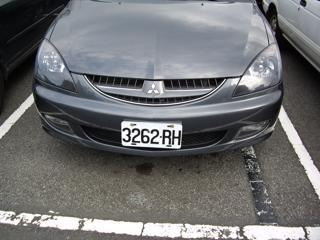plate: (120, 119, 183, 151)
